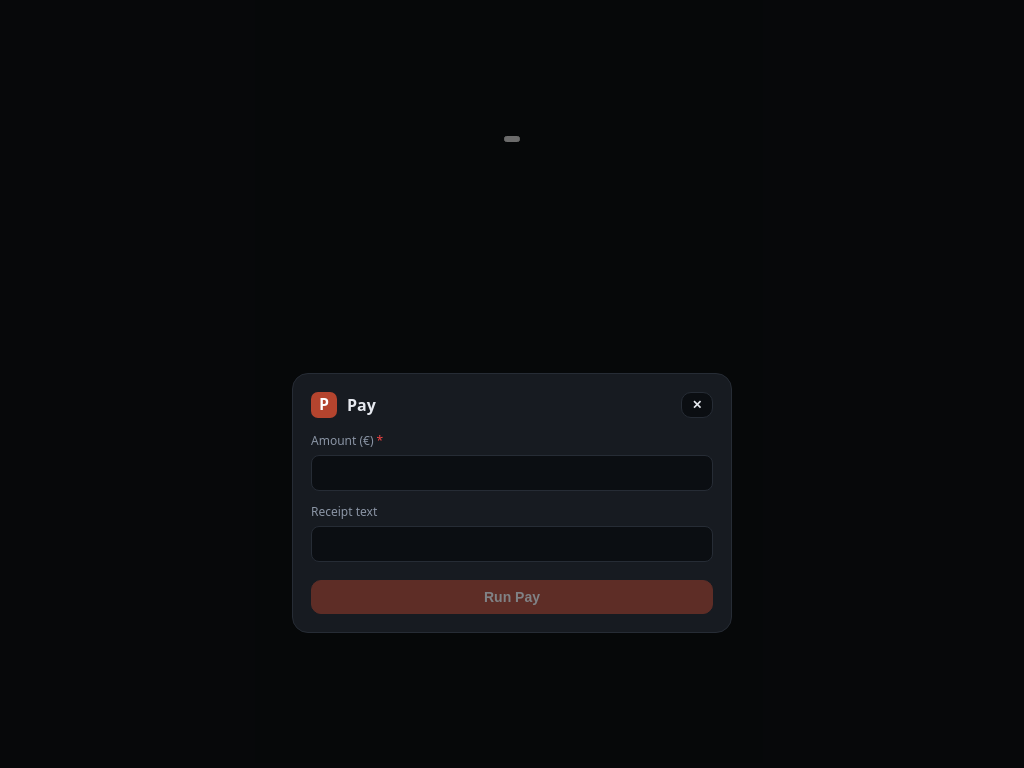
it: CommandParamsSheet › disables submit until a required field is filled
This screenshot has width=1024, height=768.
Expected: the button with test id "sheet-submit" is disabled, [311,580,713,614]
Type "10" into the number field with test id "input-amountCents".
click(512, 472); type("10")  # box [311,454,713,490]
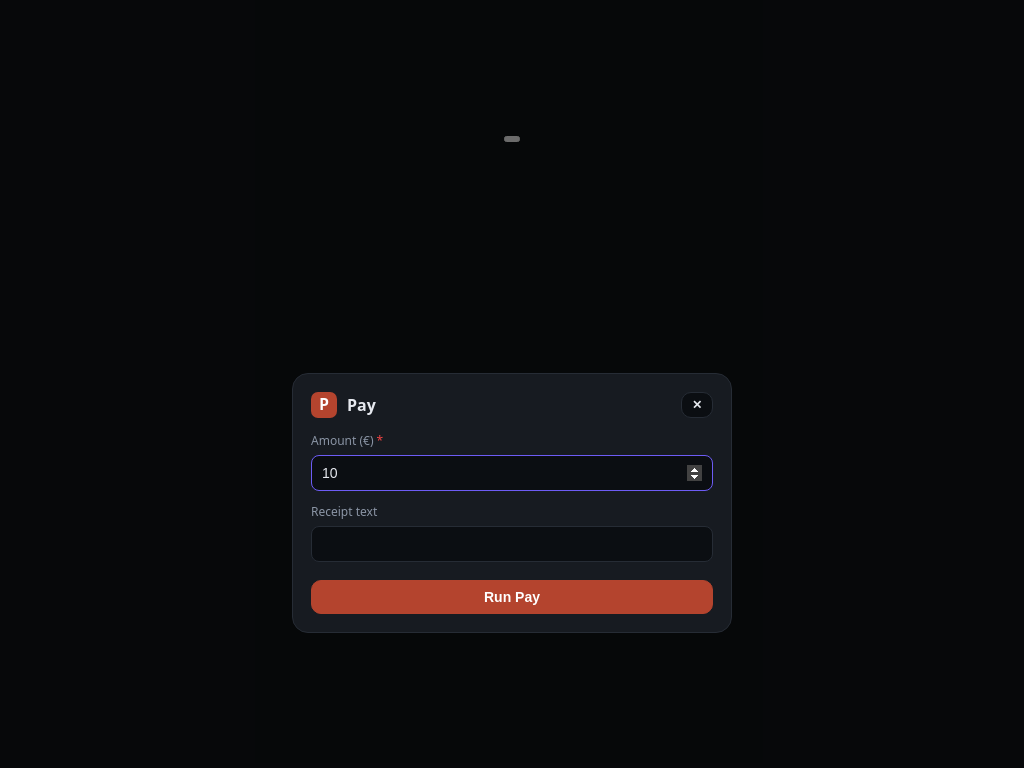
Now the button with test id "sheet-submit" is enabled, box [311,580,713,614]
